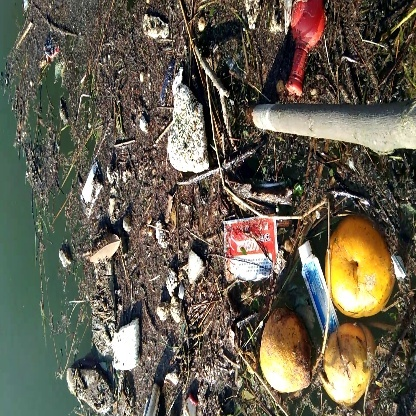ball: (323, 211, 397, 319)
bottle: (282, 1, 331, 96)
